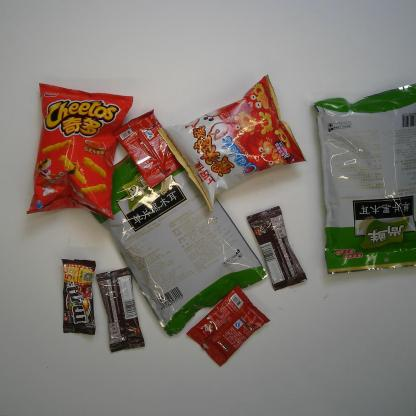Chocolate: (246, 205, 308, 291), (96, 267, 145, 353), (60, 258, 96, 336)
Dried Food: (85, 152, 268, 339), (310, 81, 416, 275)
Instant Drink: (185, 285, 271, 368), (112, 108, 182, 190)
Puffed Food: (157, 75, 308, 212), (25, 82, 135, 221)
